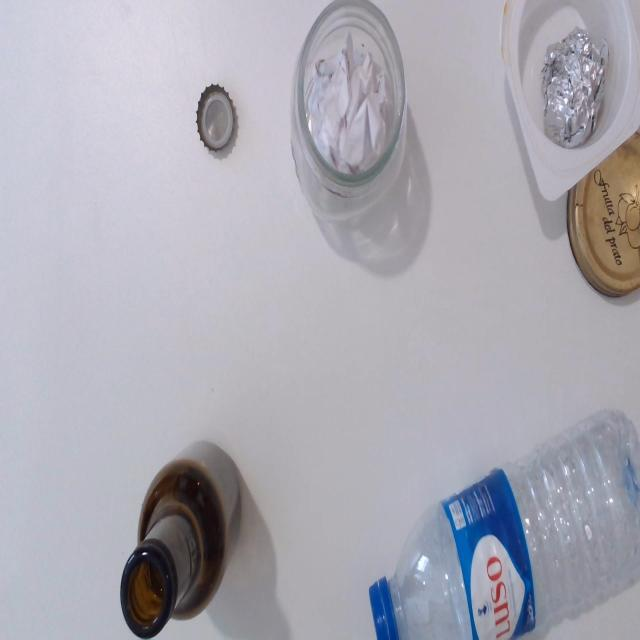Glass: (119, 436, 244, 639)
Paper: (307, 10, 394, 174)
Plastic: (368, 406, 640, 640)
